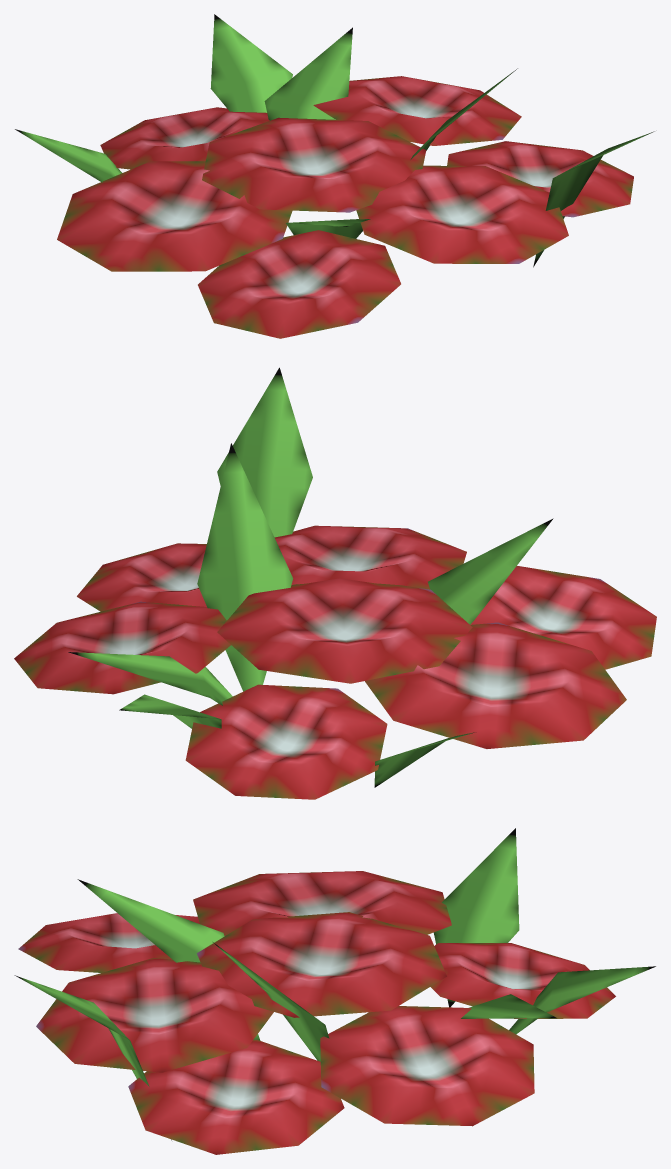
The model's file is deco_flowerBunch_red.FBX.
The picture shows the model from 3 angles, top to bottom: view 1: azimuth 30°, elevation 25°; view 2: azimuth 150°, elevation 25°; view 3: azimuth 270°, elevation 25°; orthographic projection. The views are drawn at different scales.
Parts seen in each view (by area): view 1: deco_flowerBunch_red; view 2: deco_flowerBunch_red; view 3: deco_flowerBunch_red.
Boxes of the visible parts, x1,y1,x2,y2 form: deco_flowerBunch_red: (15,14,654,338); deco_flowerBunch_red: (14,367,656,799); deco_flowerBunch_red: (14,828,655,1154).
Bounding box in the file's own units: 1.11 × 0.3886 × 1.12.
Materials: 1 (1 with a texture image).
